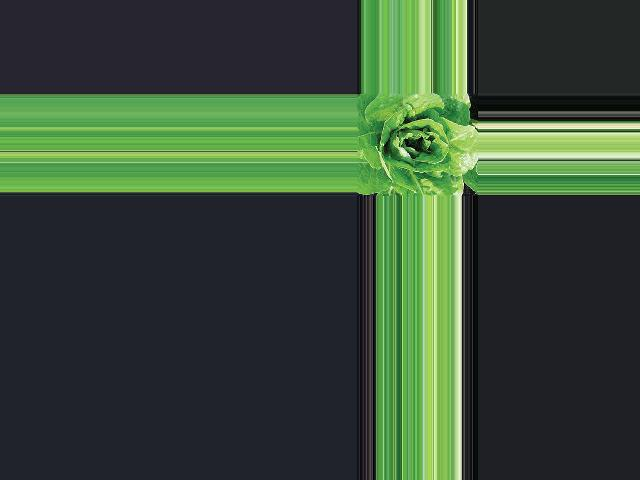lettuce: (358, 96, 472, 196)
